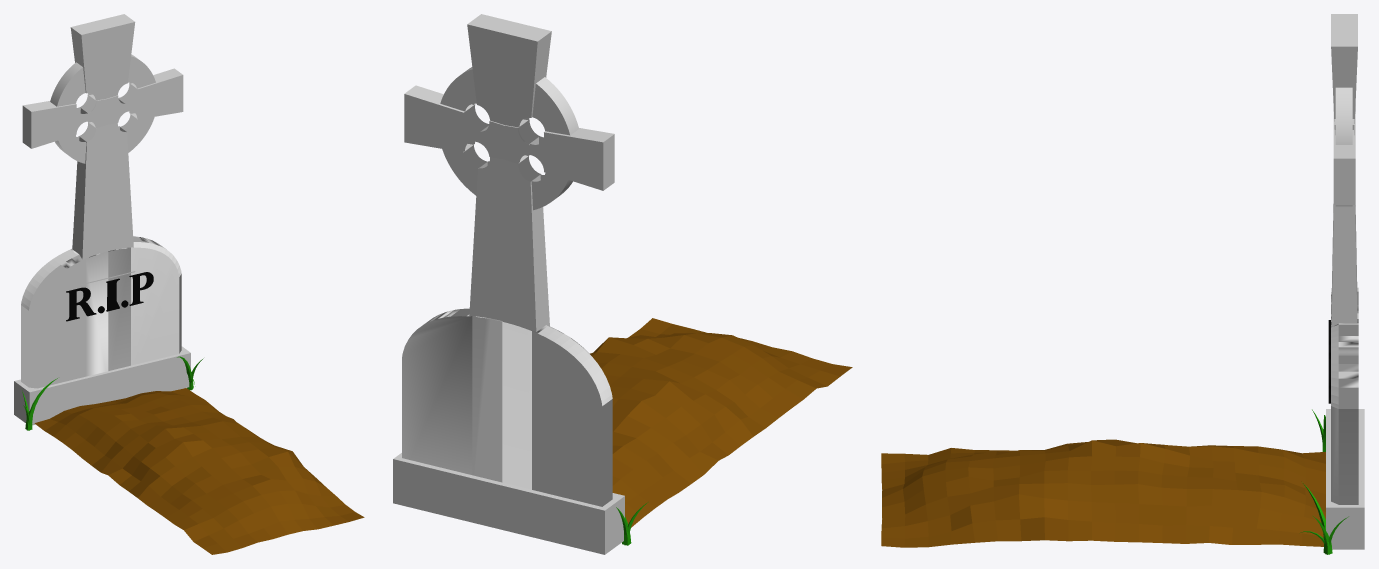
File: Grave2.fbx
3 renders of one model, left to right at view 1: azimuth 30°, elevation 25°; view 2: azimuth 150°, elevation 25°; view 3: azimuth 270°, elevation 25°, orthographic. The views are drawn at different scales.
Visible parts, largest first — view 1: Dirt_Bed, Extrude_1, Connect, Cube, Cap_2_6, Cap_1_6, Extrude, Cap_1; view 2: Extrude_1, Dirt_Bed, Connect, Cube, Cap_1_6, Cap_2_6, Extrude; view 3: Dirt_Bed, Connect, Extrude_1, Cube, Extrude.
Part boxes in pixels (left/top/right/bottom): Dirt_Bed: left=34, top=388, right=364, bottom=554; Extrude_1: left=21, top=236, right=181, bottom=388; Connect: left=22, top=14, right=183, bottom=284; Cube: left=14, top=346, right=190, bottom=425; Cap_2_6: left=57, top=56, right=155, bottom=163; Cap_1_6: left=76, top=82, right=137, bottom=141; Extrude: left=50, top=54, right=138, bottom=156; Cap_1: left=66, top=288, right=96, bottom=321; Extrude_1: left=402, top=308, right=612, bottom=506; Dirt_Bed: left=590, top=318, right=852, bottom=527; Connect: left=404, top=14, right=614, bottom=331; Cube: left=393, top=453, right=624, bottom=554; Cap_1_6: left=440, top=69, right=569, bottom=210; Cap_2_6: left=465, top=103, right=544, bottom=180; Extrude: left=462, top=67, right=578, bottom=200; Dirt_Bed: left=881, top=439, right=1325, bottom=547; Connect: left=1331, top=14, right=1357, bottom=326; Extrude_1: left=1331, top=287, right=1358, bottom=504; Cube: left=1326, top=409, right=1364, bottom=549; Extrude: left=1335, top=87, right=1352, bottom=207.
Size of the model in its own units: 478 by 951 by 878.
